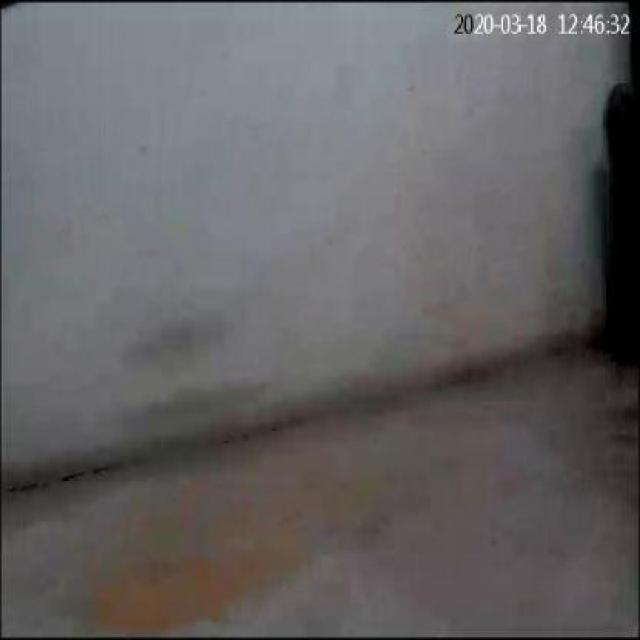spill: (87, 529, 296, 634)
